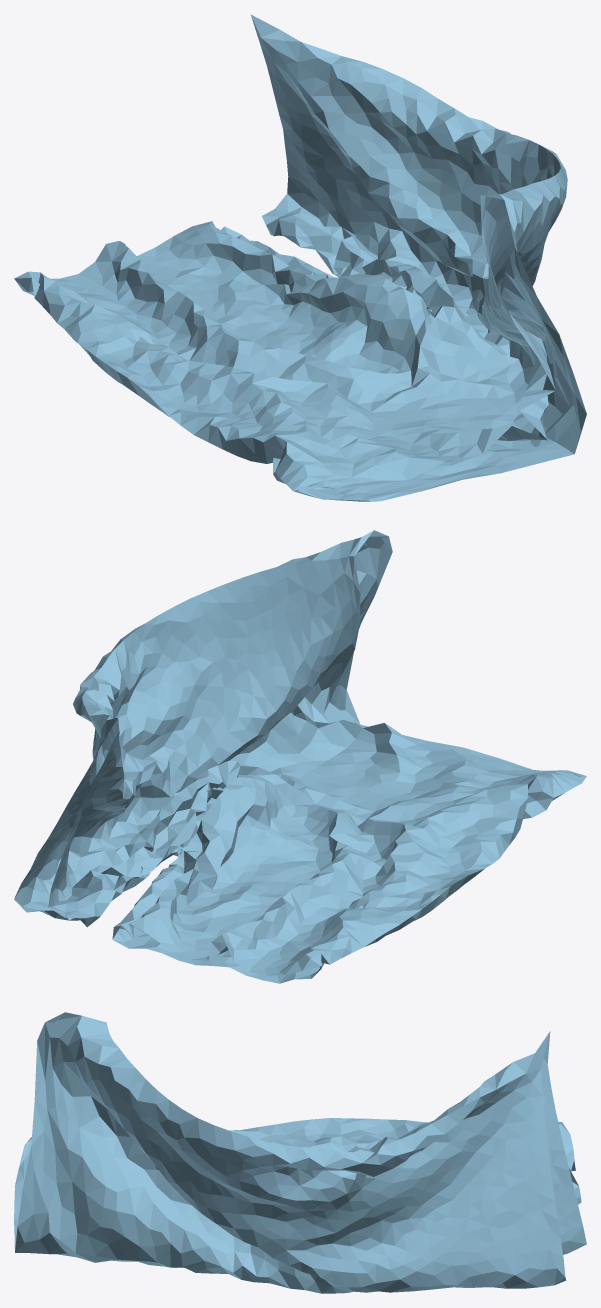
Rendered from frame_11.glb.
3 renders of one model, top to bottom at view 1: azimuth 30°, elevation 25°; view 2: azimuth 150°, elevation 25°; view 3: azimuth 270°, elevation 25°, orthographic. The views are drawn at different scales.
Visible parts, largest first — view 1: frame_11.obj; view 2: frame_11.obj; view 3: frame_11.obj.
Part boxes in pixels (box(x1,y1,x2,y2)): frame_11.obj: box(14, 14, 586, 501); frame_11.obj: box(14, 530, 586, 983); frame_11.obj: box(14, 1012, 586, 1293).
Size of the model in its own units: 1.09 by 0.675 by 1.5.
